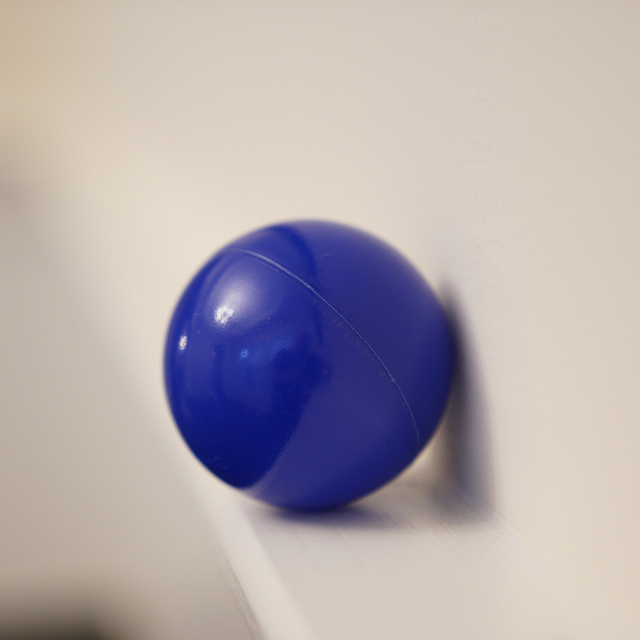Ball: (161, 217, 459, 514)
